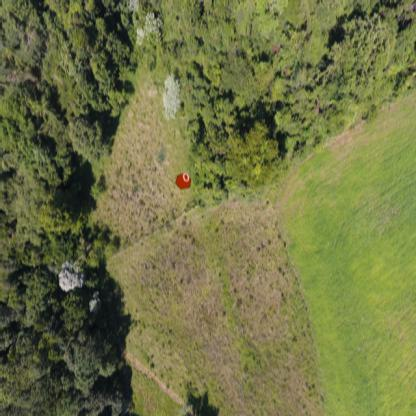0: (182, 171, 192, 182)
hexagon: (175, 171, 191, 188)
